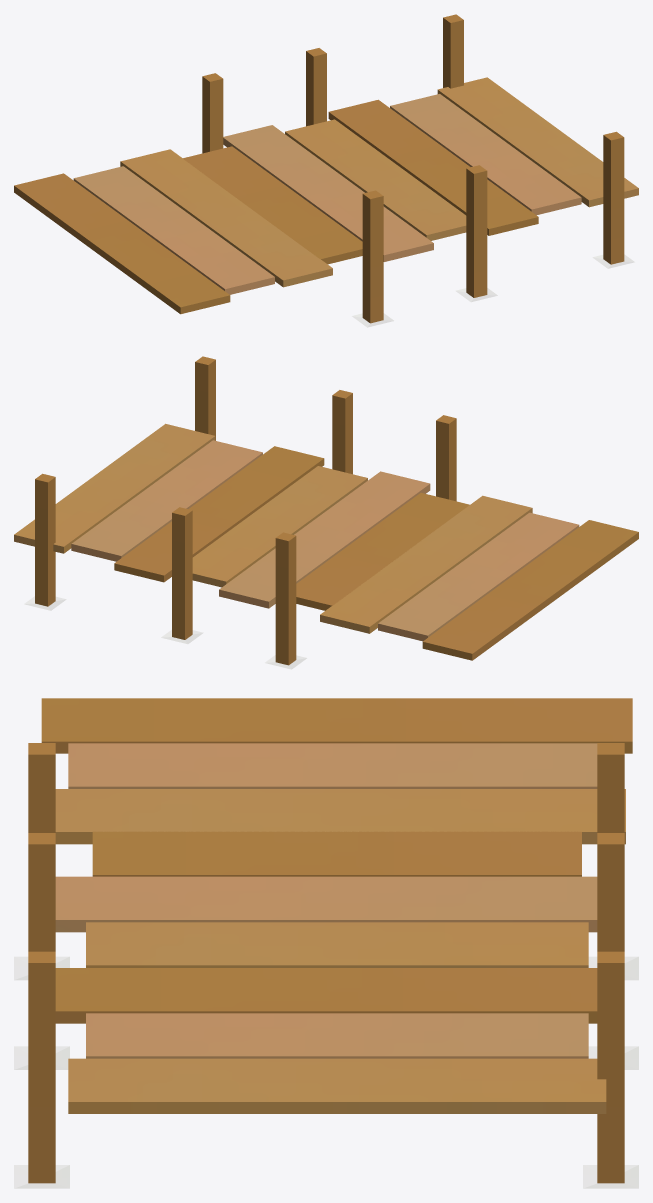
File: Pier.fbx
3 renders of one model, top to bottom at view 1: azimuth 30°, elevation 25°; view 2: azimuth 150°, elevation 25°; view 3: azimuth 270°, elevation 25°, orthographic. The views are drawn at different scales.
Visible parts, largest first — view 1: pCube23; view 2: pCube23; view 3: pCube23.
Part boxes in pixels (<box>): pCube23: <box>14,14,638,327</box>; pCube23: <box>14,356,638,669</box>; pCube23: <box>14,698,638,1188</box>.
Bounding box in the file's own units: 471 × 120 × 308.
